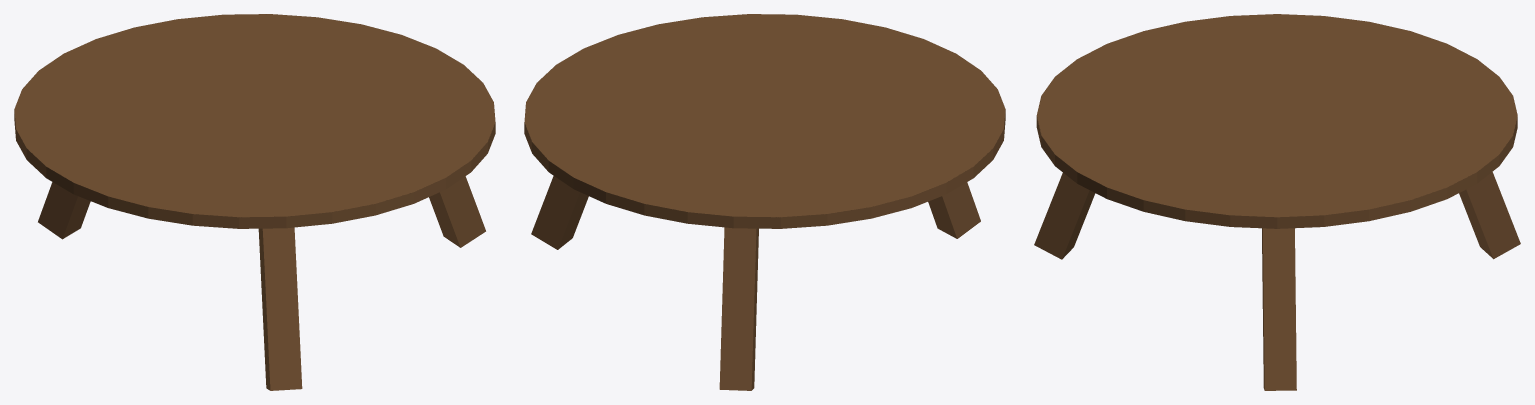
File: ちゃぶ台.fbx
The picture shows the model from 3 angles, left to right: view 1: azimuth 30°, elevation 25°; view 2: azimuth 150°, elevation 25°; view 3: azimuth 270°, elevation 25°; orthographic projection.
Parts seen in each view (by area): view 1: 円柱.001, 立方体, 立方体.001, 立方体.002; view 2: 円柱.001, 立方体.002, 立方体.001, 立方体; view 3: 円柱.001, 立方体.001, 立方体.002, 立方体.
Part boxes in pixels (x1,y1,x2,y2): 円柱.001: [14, 14, 495, 228]; 立方体: [258, 227, 302, 390]; 立方体.001: [429, 176, 485, 247]; 立方体.002: [38, 182, 90, 239]; 円柱.001: [524, 14, 1005, 228]; 立方体.002: [719, 227, 758, 390]; 立方体.001: [531, 176, 588, 249]; 立方体: [928, 182, 980, 238]; 円柱.001: [1036, 14, 1517, 228]; 立方体.001: [1262, 228, 1296, 390]; 立方体.002: [1459, 172, 1520, 259]; 立方体: [1034, 173, 1095, 259].
Bounding box in the file's own units: 15.59 × 6.04 × 15.18.
2 materials, 2 textured.
